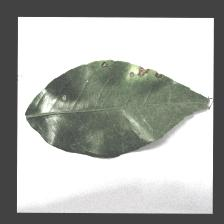canker: (42, 56, 168, 110)
